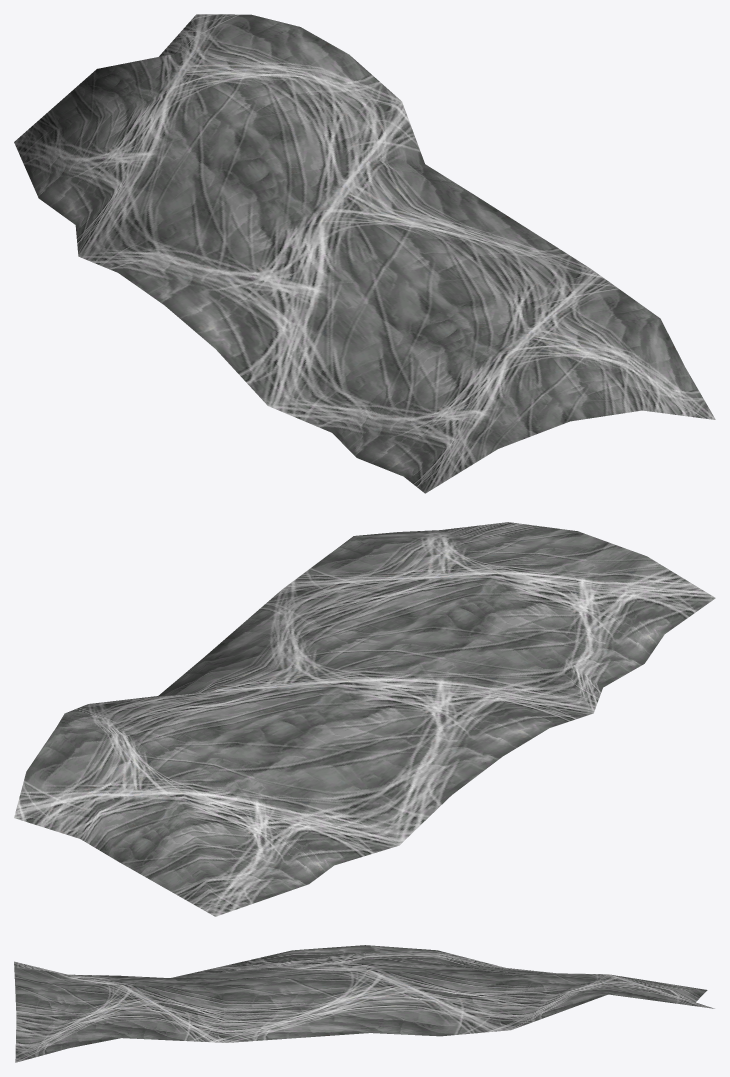
Rendered from SWORDLIGHT20_PS-AREA01_37.fbx.
3 views of the same model, one above another, from view 1: azimuth 30°, elevation 25°; view 2: azimuth 150°, elevation 25°; view 3: azimuth 270°, elevation 25° (orthographic). The views are drawn at different scales.
Parts seen in each view (by area): view 1: SWORDLIGHT20_PS-AREA01_37; view 2: SWORDLIGHT20_PS-AREA01_37; view 3: SWORDLIGHT20_PS-AREA01_37.
Part boxes in pixels (<box>): SWORDLIGHT20_PS-AREA01_37: <box>14,14,715,493</box>; SWORDLIGHT20_PS-AREA01_37: <box>14,522,715,916</box>; SWORDLIGHT20_PS-AREA01_37: <box>14,945,714,1062</box>.
Size of the model in its own units: 58339 by 18922 by 145258.
Materials: 1 (1 with a texture image).
